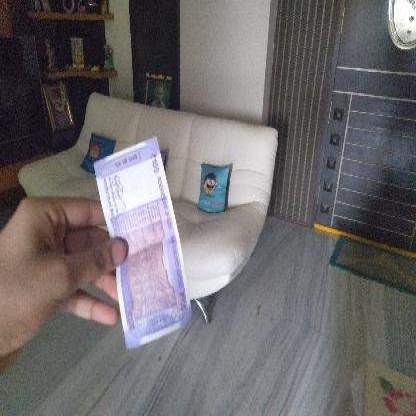New100Back: (96, 135, 190, 353)
